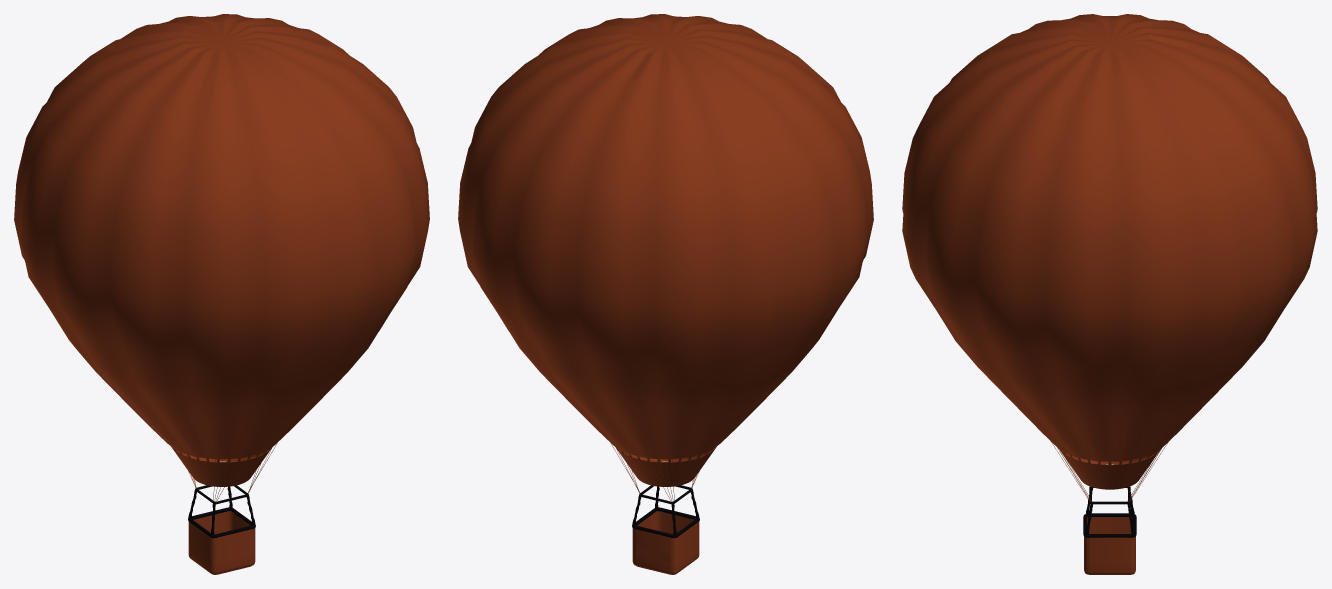
File: Jugador2.FBX
3 renders of one model, left to right at view 1: azimuth 30°, elevation 25°; view 2: azimuth 150°, elevation 25°; view 3: azimuth 270°, elevation 25°, orthographic.
Visible parts, largest first — view 1: Jugador2_Object009; view 2: Jugador2_Object009; view 3: Jugador2_Object009.
Part boxes in pixels (x1,y1,x2,y2): Jugador2_Object009: [14, 14, 429, 574]; Jugador2_Object009: [458, 14, 873, 574]; Jugador2_Object009: [902, 14, 1317, 574].
Size of the model in its own units: 9.56 by 13.4 by 9.56.
